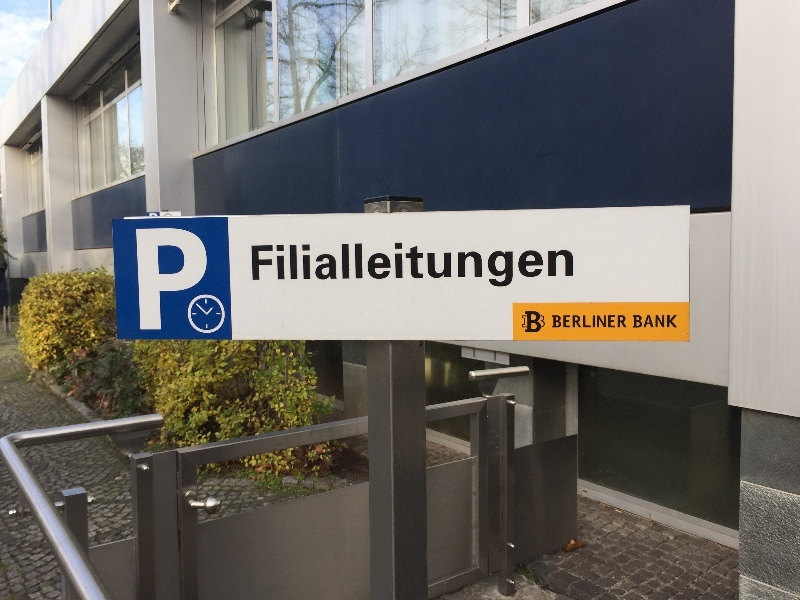text: (145, 228, 160, 330), (161, 228, 176, 330), (177, 228, 192, 330), (193, 228, 208, 330), (257, 240, 272, 297), (273, 240, 288, 297), (289, 240, 304, 297), (305, 240, 320, 297), (321, 240, 336, 297), (337, 240, 352, 297), (353, 240, 368, 297), (369, 240, 384, 297), (385, 240, 400, 297), (401, 240, 416, 297), (417, 240, 432, 297), (433, 240, 448, 297), (449, 240, 464, 297), (465, 240, 480, 297), (481, 240, 496, 297), (497, 240, 512, 297), (513, 240, 528, 297), (529, 240, 544, 297), (545, 240, 560, 297), (136, 228, 144, 330), (561, 240, 574, 297), (251, 240, 256, 297), (529, 312, 542, 333), (641, 315, 656, 328), (657, 315, 672, 328), (561, 315, 576, 328), (577, 315, 592, 328), (593, 315, 608, 328), (609, 315, 624, 328), (552, 315, 560, 328), (633, 315, 640, 328), (525, 312, 528, 333), (673, 315, 677, 328), (625, 315, 627, 328)
